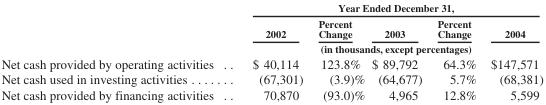table: (0, 1, 542, 101)
table column: (0, 1, 232, 101), (232, 1, 310, 101), (367, 1, 429, 101), (482, 1, 542, 101), (310, 1, 367, 101), (429, 1, 482, 101)
table column header: (0, 1, 542, 55)
table row: (0, 15, 542, 40), (0, 55, 542, 71), (0, 40, 542, 55), (0, 71, 542, 86), (0, 86, 542, 101), (0, 1, 542, 15)
table spanning cell: (232, 40, 542, 55), (232, 1, 542, 15)
